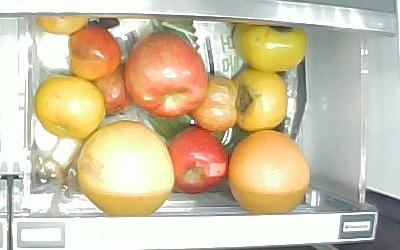apple: (124, 30, 208, 119), (164, 124, 230, 195)
grapefruit: (77, 120, 175, 217), (227, 129, 311, 215)
persimmon: (35, 76, 105, 139), (232, 21, 307, 70), (233, 68, 288, 130)
prune: (69, 26, 122, 82), (192, 74, 237, 133), (90, 63, 134, 115)
